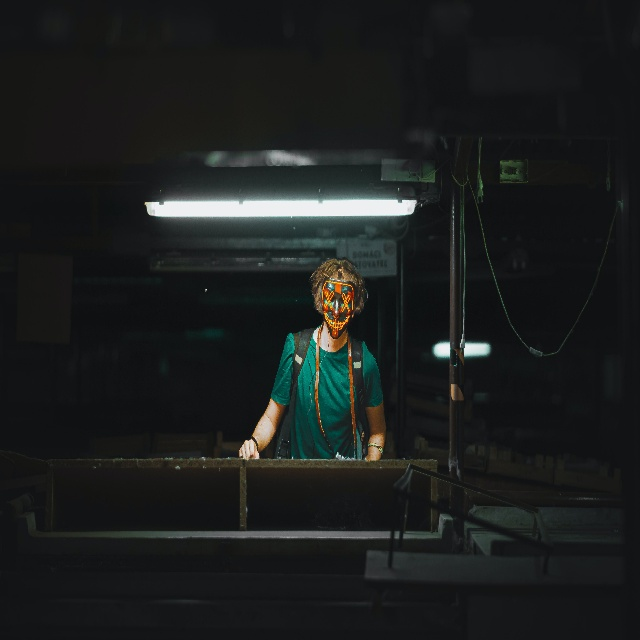Sin_guantes: (239, 439, 260, 459)
